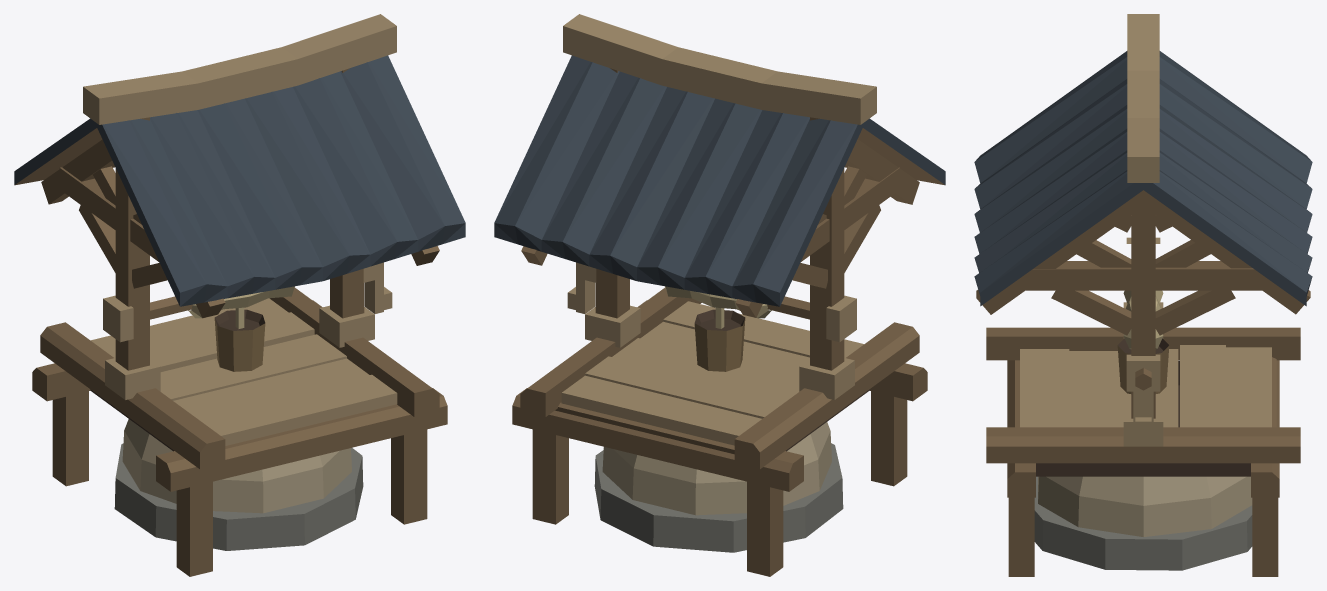
The model's file is roofed-well-43a2fc.glb.
The picture shows the model from 3 angles, left to right: view 1: azimuth 30°, elevation 25°; view 2: azimuth 150°, elevation 25°; view 3: azimuth 270°, elevation 25°; orthographic projection.
Visible parts, largest first — view 1: well, pail; view 2: well, pail; view 3: well, pail.
Boxes of the visible parts, x1,y1,x2,y2 form: well: [14, 14, 465, 576]; pail: [214, 309, 265, 371]; well: [494, 14, 945, 576]; pail: [694, 309, 745, 371]; well: [974, 14, 1312, 576]; pail: [1117, 338, 1169, 393].
Size of the model in its own units: 2 by 2.84 by 2.
